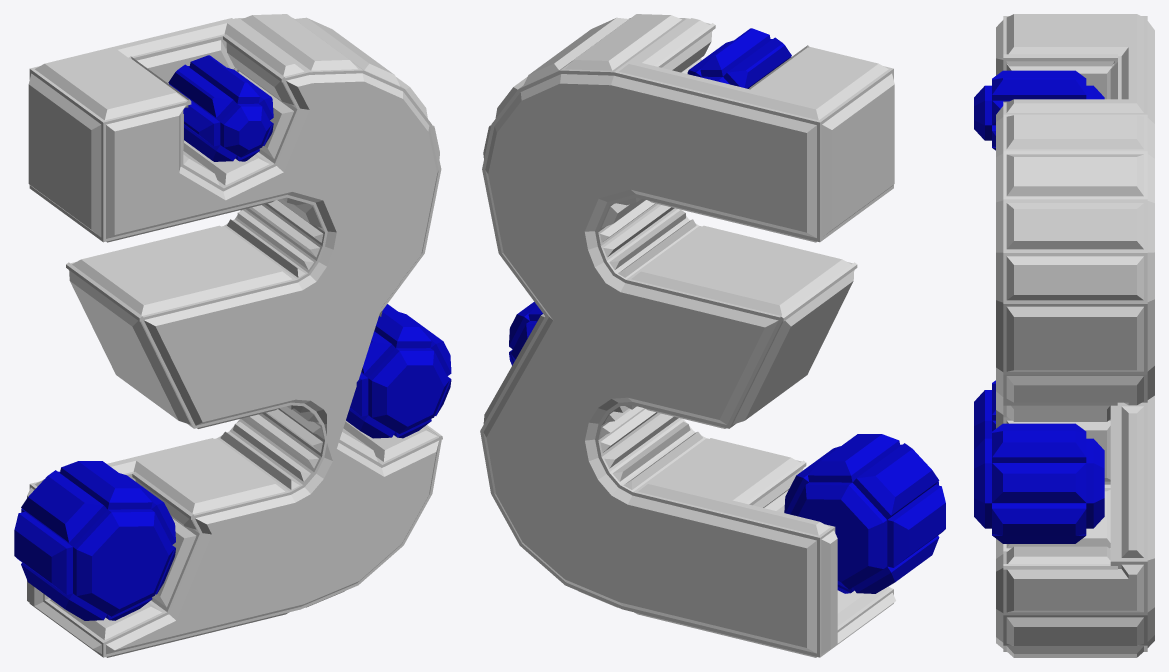
3 views of the same model, side by side, from view 1: azimuth 30°, elevation 25°; view 2: azimuth 150°, elevation 25°; view 3: azimuth 270°, elevation 25° (orthographic). The views are drawn at different scales.
Parts seen in each view (by area): view 1: sphere1; view 2: sphere1; view 3: sphere1.
Part boxes in pixels (x1,y1,x2,y2): sphere1: (14, 14, 451, 657); sphere1: (480, 14, 945, 657); sphere1: (974, 14, 1154, 657).
Bounding box in the file's own units: 0.6242 × 0.82 × 0.2503.
